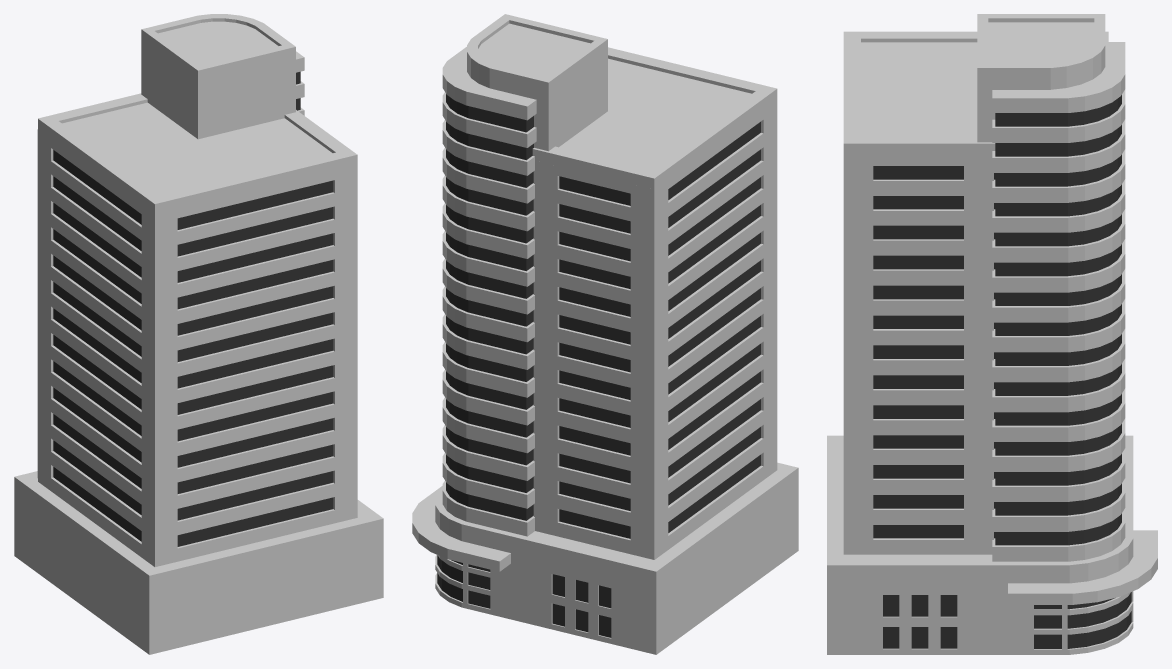
The model's file is spw-urban-bldg-04.glb.
The picture shows the model from 3 angles, left to right: view 1: azimuth 30°, elevation 25°; view 2: azimuth 150°, elevation 25°; view 3: azimuth 270°, elevation 25°; orthographic projection. The views are drawn at different scales.
Parts seen in each view (by area): view 1: SPW_Urban_Bldg_04; view 2: SPW_Urban_Bldg_04; view 3: SPW_Urban_Bldg_04.
Boxes of the visible parts, x1,y1,x2,y2 form: SPW_Urban_Bldg_04: (14, 14, 383, 654); SPW_Urban_Bldg_04: (412, 14, 798, 654); SPW_Urban_Bldg_04: (827, 14, 1157, 654).
Bounding box in the file's own units: 20.05 × 38.45 × 20.05.
1 material, 1 textured.
